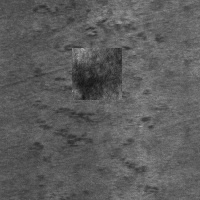patches: (72, 48, 122, 100)
rolled-in_scale: (29, 21, 112, 179), (116, 98, 163, 199)
